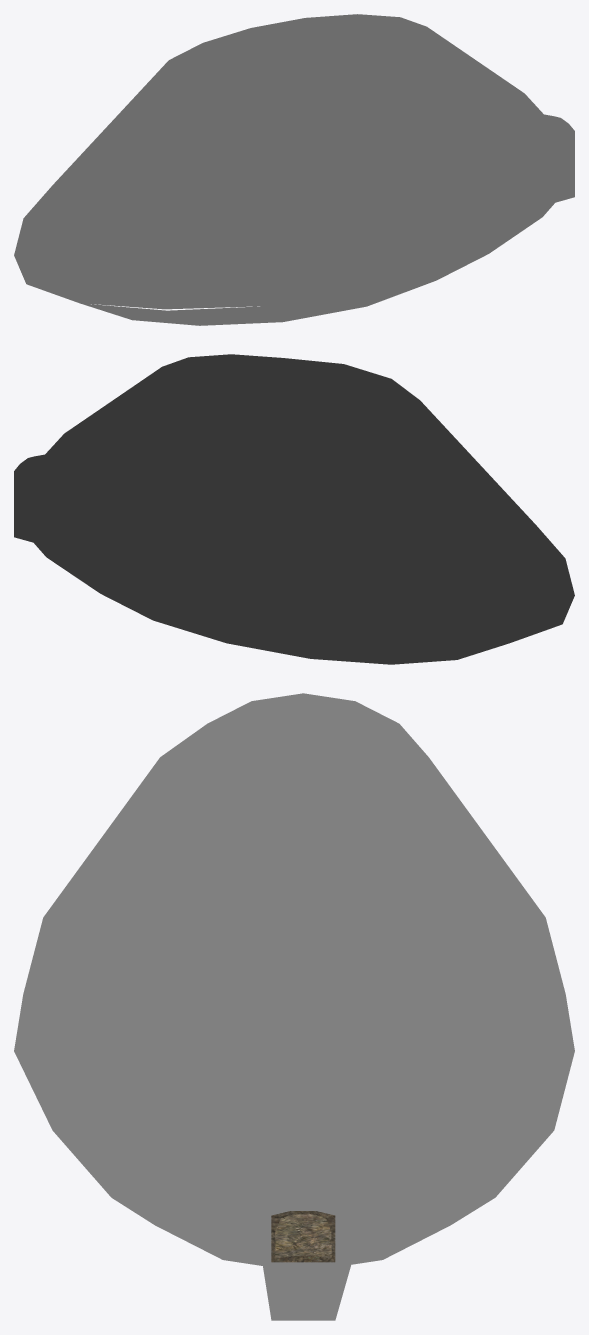
Rendered from svgoldcave1.dae.
3 views of the same model, one above another, from view 1: azimuth 30°, elevation 25°; view 2: azimuth 150°, elevation 25°; view 3: azimuth 270°, elevation 25° (orthographic). The views are drawn at different scales.
Parts seen in each view (by area): view 1: sphere11_cut12-0; view 2: sphere11_cut12-0; view 3: sphere11_cut12-0.
Part boxes in pixels (<box>): sphere11_cut12-0: <box>14,14,574,325</box>; sphere11_cut12-0: <box>14,354,574,664</box>; sphere11_cut12-0: <box>14,693,574,1320</box>.
Size of the model in its own units: 23209 by 8105 by 13164.
